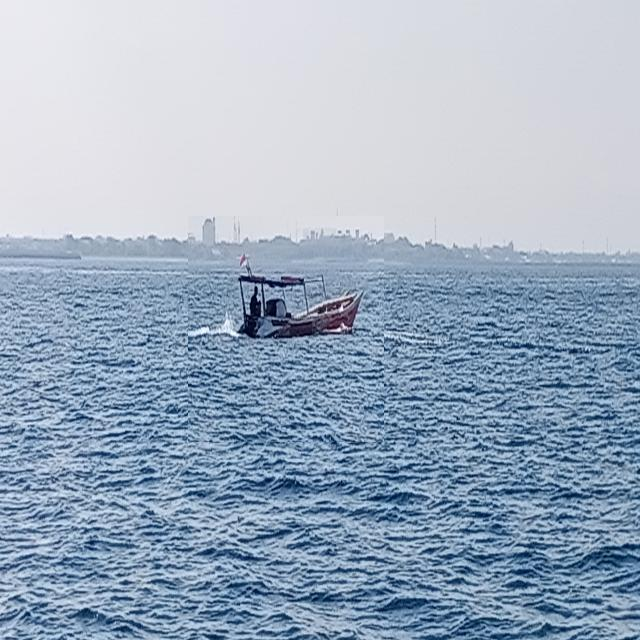Fishing Boat: (188, 217, 384, 442)
